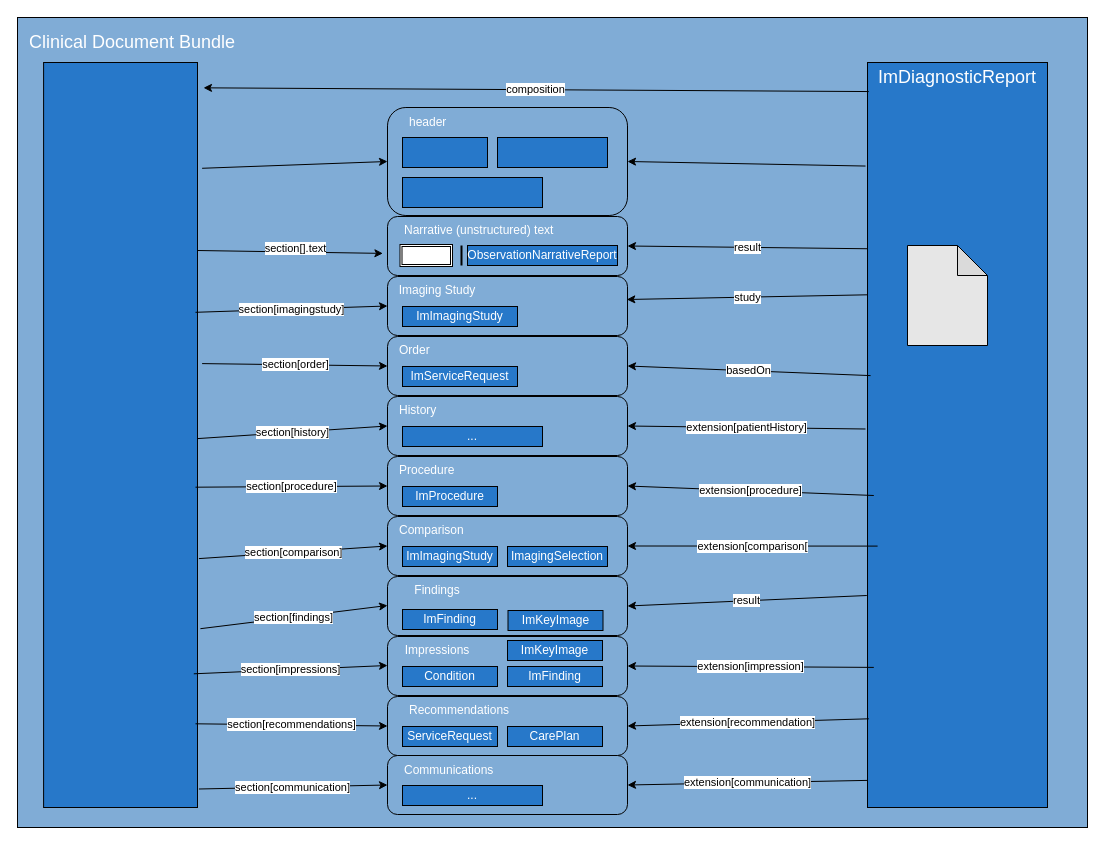
Image size: 1105x845. Some labels were removed from this diagram. The shapes that lost their labels are listed below. From the top down, each one's box as (x1, y1, x2, y2) in pixels, then its label:
(402, 136, 488, 168): ImPatient
(496, 136, 608, 168): EuOrganization
(402, 176, 542, 208): EuPractitioner(Role)
(399, 244, 452, 266): inline
(906, 244, 988, 346): Rendered Report
(43, 62, 198, 808): ImComposition
